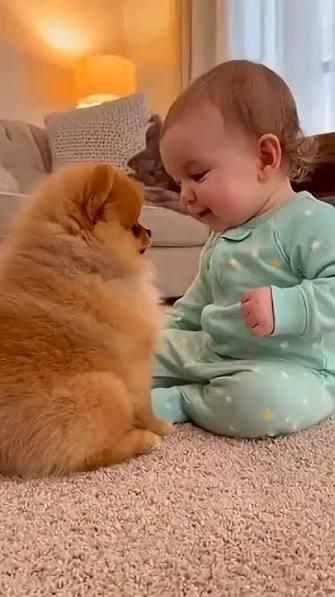non-dog: (149, 58, 335, 437)
puppy-dog: (0, 162, 175, 482)
